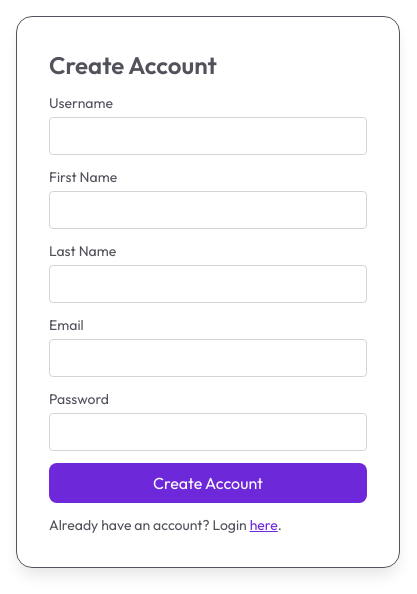
Test: Signup Flow › should successfully sign up a new user
// Fill signup form
Type "testuser" into the field labelled "Username" at (208, 136), box [49,117,367,155]
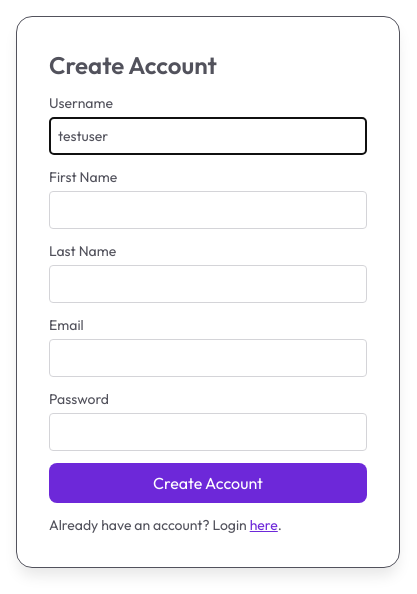
Type "Test" into the field labelled "First Name" at (208, 210), box [49,191,367,229]
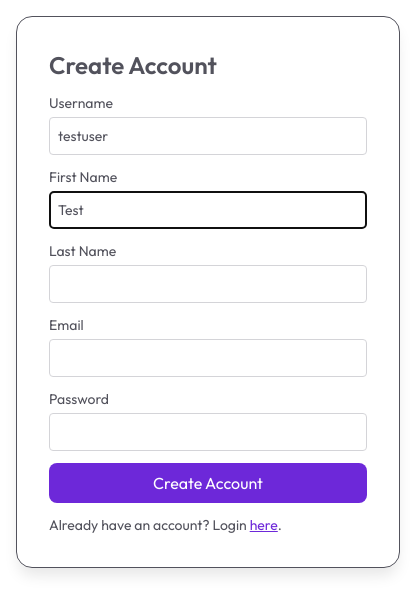
Type "User" into the field labelled "Last Name" at (208, 284), box [49,265,367,303]
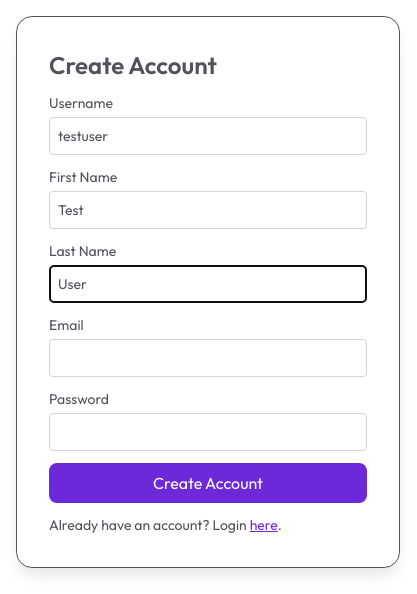
Type "test@example.com" into the field labelled "Email" at (208, 358), box [49,339,367,377]
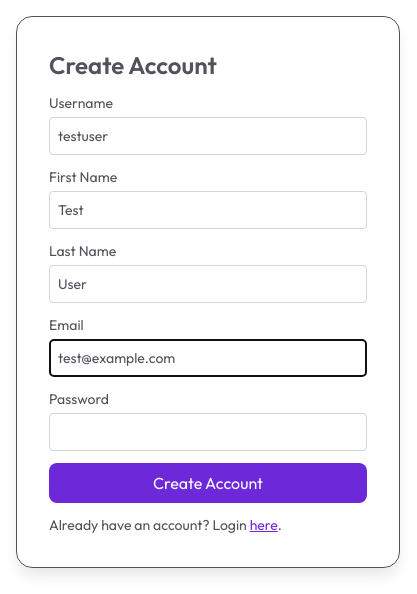
Type "Password123!" into the password field labelled "Password" at (208, 432), box [49,413,367,451]
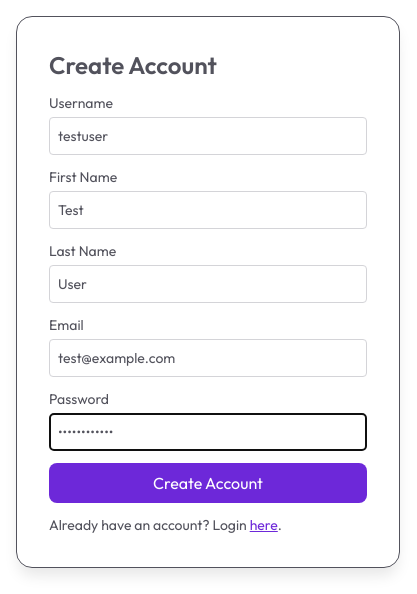
// Submit form
Click the button "Create Account" at (208, 483), box [49,463,367,503]
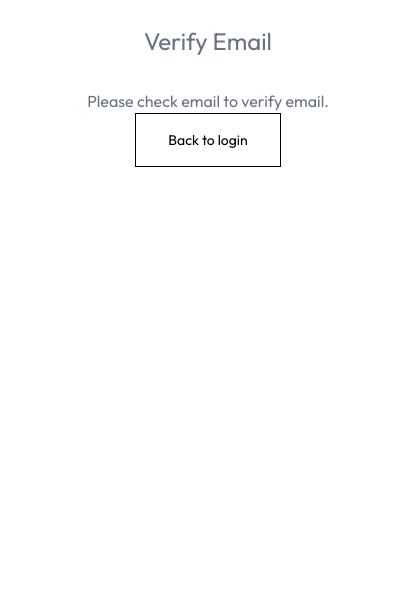
Expected: the heading "Verify Email" is shown, [144,26,272,56]
Expected: the text "Please check email to verify email." is shown, [87,91,329,111]
